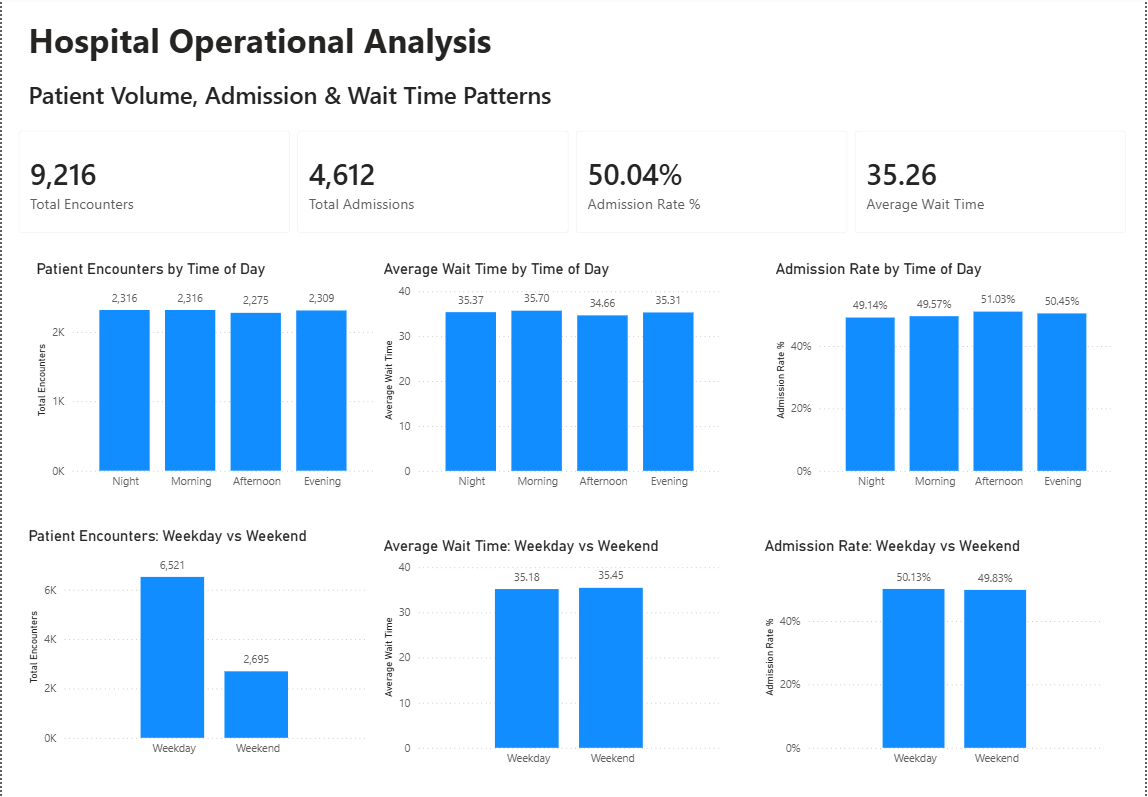

This screenshot's page, from the dashboard's own definition file:
{"tool":"powerbi","page":{"name":"Operational Analysis","canvas":[1280,900],"ordinal":2},"visuals":[{"type":"cardVisual","fields":{"Data":["_Measures.Total Encounters","_Measures.Total Admissions","_Measures.Admission Rate %","_Measures.Average Wait Time"]},"box":[13.5,144,1252.9,125.5],"z":0},{"type":"textbox","box":[24.6,18.5,537.8,59.1],"z":3000},{"type":"textbox","box":[24.6,86.2,601.8,46.8],"z":4000},{"type":"clusteredColumnChart","title":"Patient Encounters by Time of Day","fields":{"Category":["fact_patient_encounter.TimeOfDay"],"Y":["_Measures.Total Encounters"]},"box":[33.2,294.2,388.9,265.8],"z":4001},{"type":"clusteredColumnChart","title":"Average Wait Time by Time of Day","fields":{"Category":["fact_patient_encounter.TimeOfDay"],"Y":["_Measures.Average Wait Time"]},"box":[422.2,294.2,389,266],"z":4002},{"type":"clusteredColumnChart","title":"Admission Rate by Time of Day","fields":{"Category":["fact_patient_encounter.TimeOfDay"],"Y":["_Measures.Admission Rate %"]},"box":[860.3,294.2,389,266],"z":4003},{"type":"clusteredColumnChart","title":"Patient Encounters: Weekday vs Weekend","fields":{"Category":["dim_calendar.DayType"],"Y":["_Measures.Total Encounters"]},"box":[24.6,593.2,389,266],"z":4004},{"type":"clusteredColumnChart","title":"Average Wait Time: Weekday vs Weekend","fields":{"Category":["dim_calendar.DayType"],"Y":["_Measures.Average Wait Time"]},"box":[422.2,604.3,389,266],"z":4005},{"type":"clusteredColumnChart","title":"Admission Rate: Weekday vs Weekend","fields":{"Category":["dim_calendar.DayType"],"Y":["_Measures.Admission Rate %"]},"box":[848,604.3,389,266],"z":4006}]}

Visuals, with their boxes in screenshot pixels (x1, y1, x2, y2), scaled from the page's 1280x900 canvas onto the 1148x797 screenshot:
cardVisual - _Measures.Total Encounters x _Measures.Total Admissions: [12, 128, 1136, 239]
textbox: [22, 16, 504, 69]
textbox: [22, 76, 562, 118]
"Patient Encounters by Time of Day" clusteredColumnChart: [30, 261, 379, 496]
"Average Wait Time by Time of Day" clusteredColumnChart: [379, 261, 728, 496]
"Admission Rate by Time of Day" clusteredColumnChart: [772, 261, 1120, 496]
"Patient Encounters: Weekday vs Weekend" clusteredColumnChart: [22, 525, 371, 761]
"Average Wait Time: Weekday vs Weekend" clusteredColumnChart: [379, 535, 728, 771]
"Admission Rate: Weekday vs Weekend" clusteredColumnChart: [761, 535, 1109, 771]
